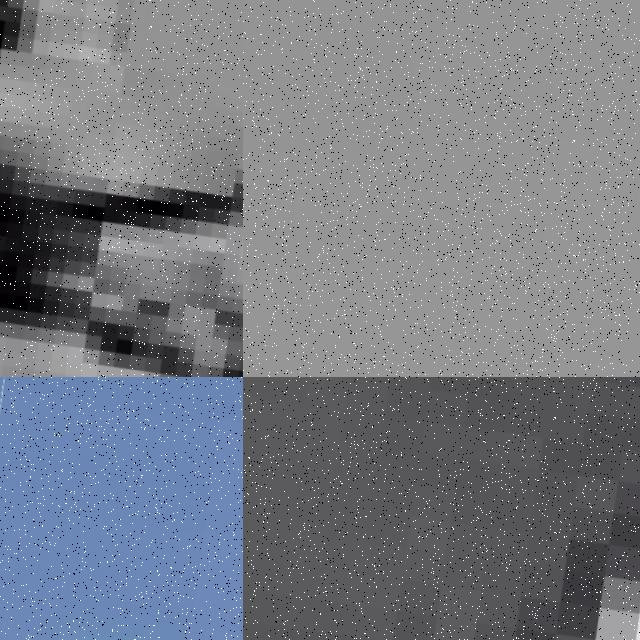0: (0, 0, 243, 377), (0, 377, 243, 640)
drone: (243, 377, 640, 640)
